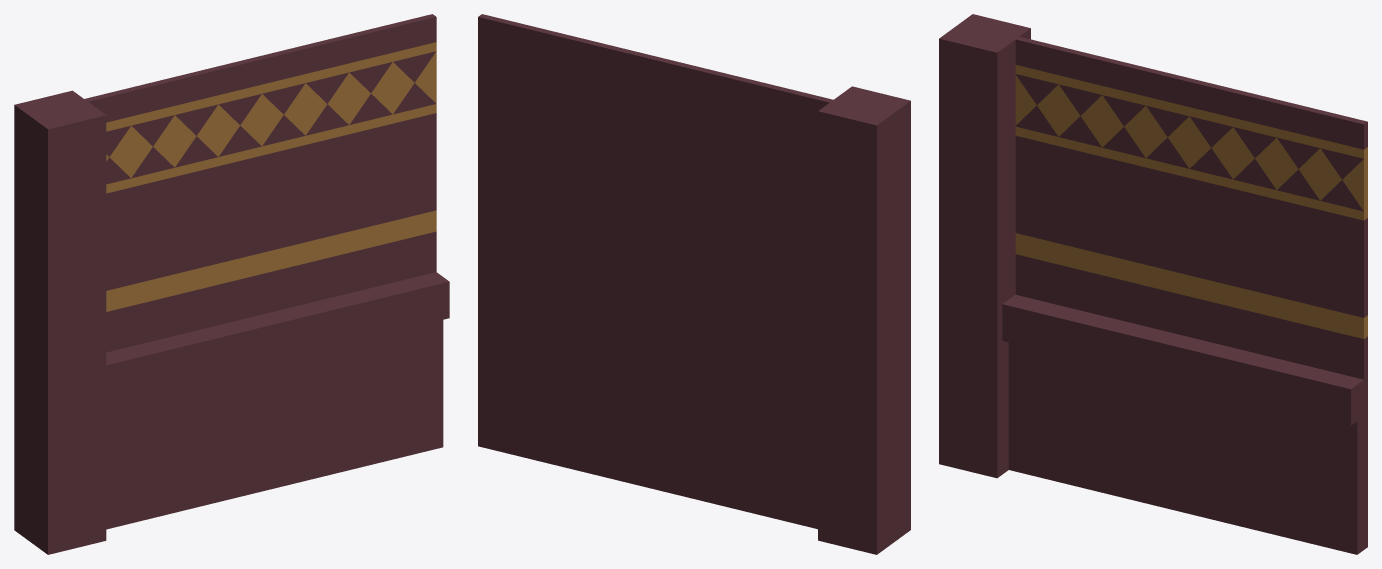
Rendered from SM_Wall_R_3x3m_Rim_Empire.fbx.
3 renders of one model, left to right at view 1: azimuth 30°, elevation 25°; view 2: azimuth 150°, elevation 25°; view 3: azimuth 330°, elevation 25°, orthographic.
Visible parts, largest first — view 1: SM_Wall_R_3x3m_Rim_Empire; view 2: SM_Wall_R_3x3m_Rim_Empire; view 3: SM_Wall_R_3x3m_Rim_Empire.
Part boxes in pixels (x1,y1,x2,y2): SM_Wall_R_3x3m_Rim_Empire: (14,14,449,554); SM_Wall_R_3x3m_Rim_Empire: (478,14,910,554); SM_Wall_R_3x3m_Rim_Empire: (939,14,1367,554).
Bounding box in the file's own units: 3 × 3 × 0.43.
